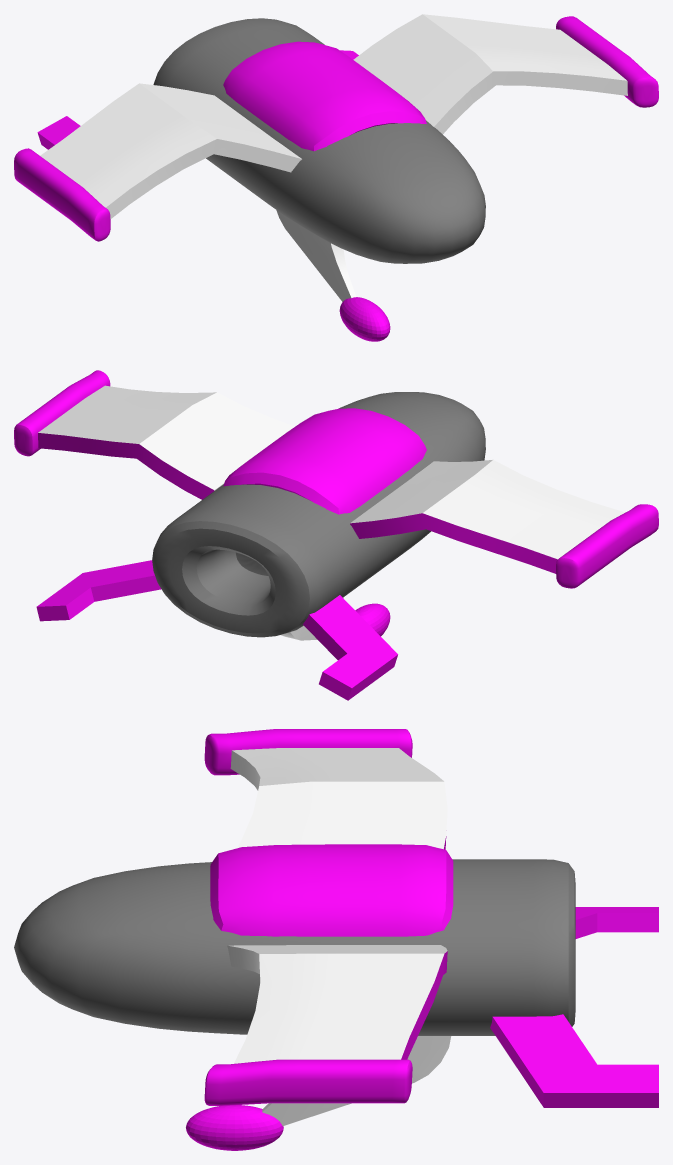
File: Lath.fbx
3 views of the same model, one above another, from view 1: azimuth 30°, elevation 25°; view 2: azimuth 150°, elevation 25°; view 3: azimuth 270°, elevation 25° (orthographic). The views are drawn at different scales.
Parts seen in each view (by area): view 1: Cube.046, Cube.044, Cube.045, Cube.049, Sphere.013, Cube.048; view 2: Cube.046, Cube.044, Cube.045, Cube.048, Cube.047, Sphere.013; view 3: Cube.044, Cube.046, Cube.045, Cube.047, Sphere.013, Cube.049, Cube.048.
Part boxes in pixels (x1=…): Cube.046: x1=14, y1=14, x2=658, y2=241; Cube.044: x1=153, y1=18, x2=485, y2=263; Cube.045: x1=223, y1=41, x2=426, y2=151; Cube.049: x1=276, y1=210, x2=356, y2=301; Sphere.013: x1=339, y1=297, x2=390, y2=341; Cube.048: x1=37, y1=116, x2=80, y2=149; Cube.046: x1=14, y1=370, x2=658, y2=588; Cube.044: x1=152, y1=392, x2=485, y2=637; Cube.045: x1=223, y1=408, x2=426, y2=514; Cube.048: x1=303, y1=595, x2=397, y2=700; Cube.047: x1=36, y1=560, x2=161, y2=621; Sphere.013: x1=355, y1=603, x2=390, y2=636; Cube.044: x1=14, y1=859, x2=575, y2=1035; Cube.046: x1=204, y1=729, x2=447, y2=1105; Cube.045: x1=210, y1=844, x2=453, y2=936; Cube.047: x1=490, y1=1014, x2=658, y2=1107; Sphere.013: x1=186, y1=1105, x2=283, y2=1150; Cube.049: x1=262, y1=1036, x2=451, y2=1125; Cube.048: x1=575, y1=907, x2=658, y2=938.
Bounding box in the file's own units: 177 × 70.02 × 140.
